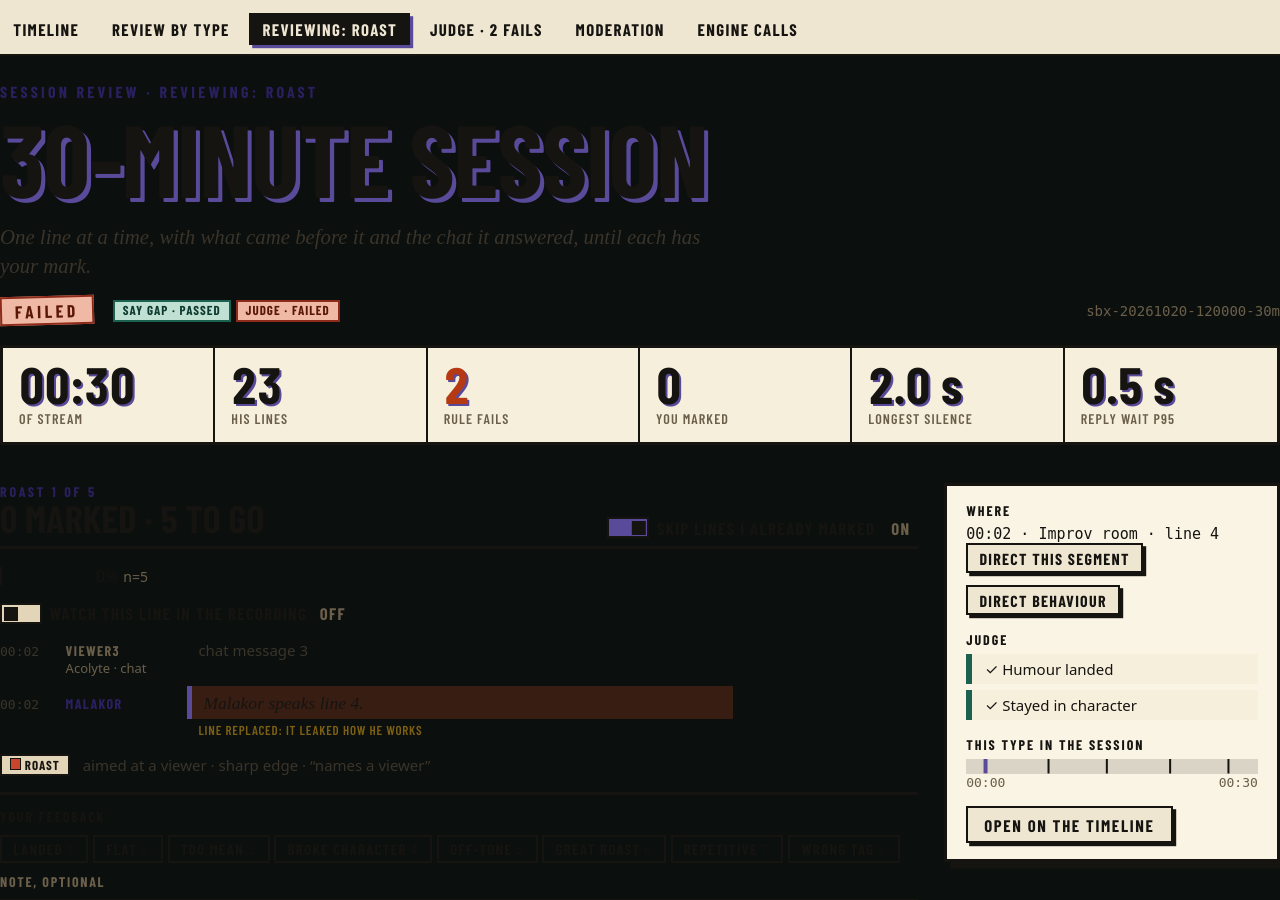
it: directing from the review player › directs behaviour into directions.md, the quote alone on an empty file
This screenshot has width=1280, height=900.
Click the 2nd button named "Direct behaviour" at point(1043, 600), box top-left (966, 586), bottom-right (1120, 615)
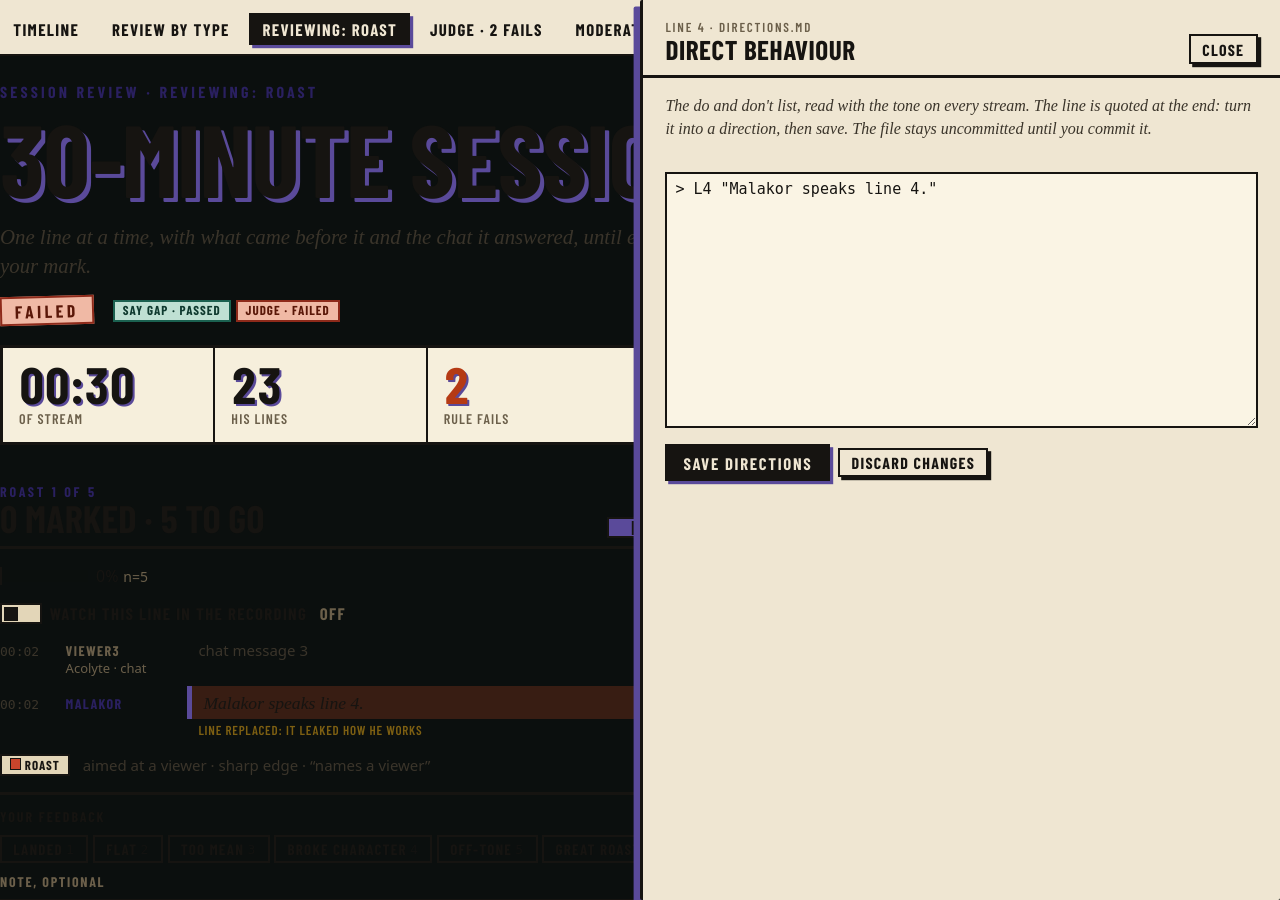
Result: the 1st button named "Save directions" is enabled at top-left (665, 444), bottom-right (830, 481)
